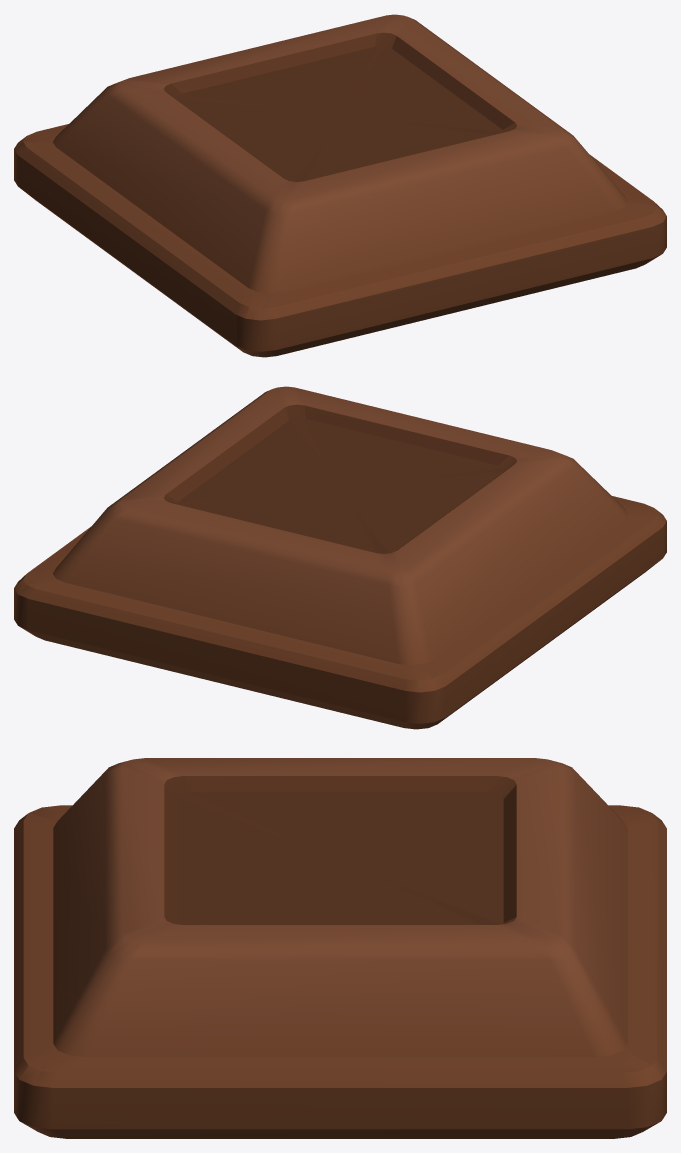
File: chocolate_piece.glb
3 renders of one model, top to bottom at view 1: azimuth 30°, elevation 25°; view 2: azimuth 150°, elevation 25°; view 3: azimuth 270°, elevation 25°, orthographic. The views are drawn at different scales.
Parts seen in each view (by area): view 1: chocolate_piece; view 2: chocolate_piece; view 3: chocolate_piece.
Part boxes in pixels (x1,y1,x2,y2): chocolate_piece: (14,14,666,357); chocolate_piece: (14,386,666,729); chocolate_piece: (14,758,666,1138).
Bounding box in the file's own units: 1 × 0.268 × 1.
